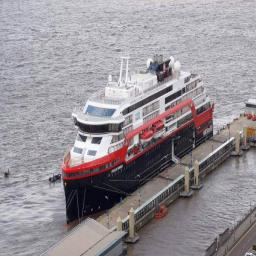cruises: (59, 44, 219, 230)
